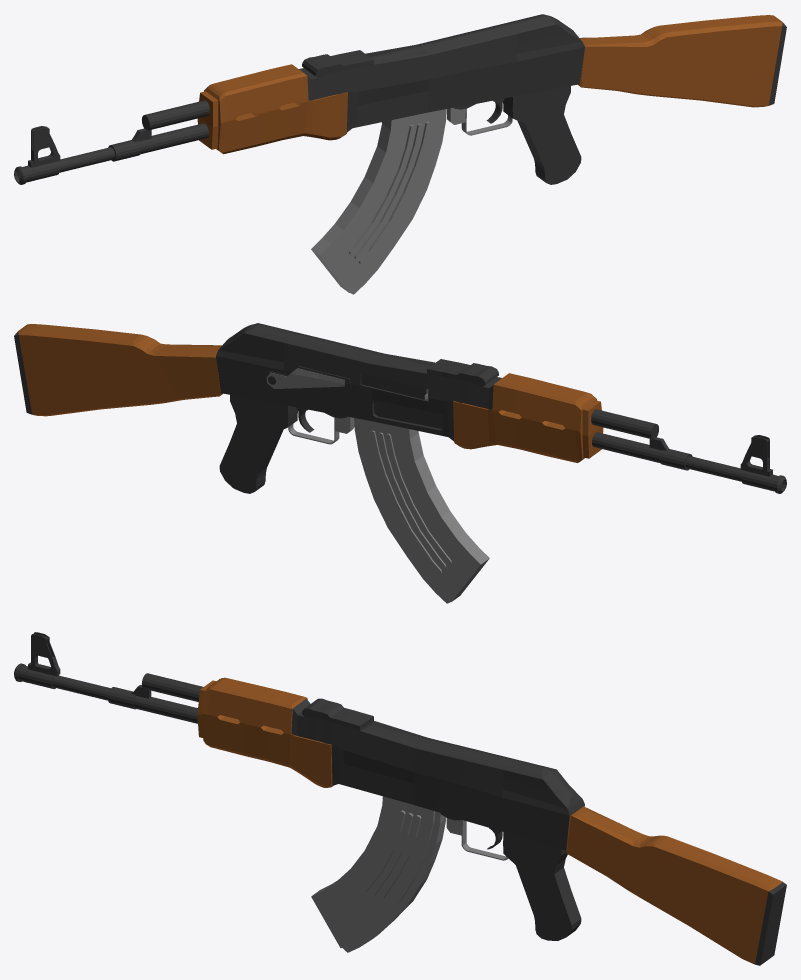
The picture shows the model from 3 angles, top to bottom: view 1: azimuth 30°, elevation 25°; view 2: azimuth 150°, elevation 25°; view 3: azimuth 330°, elevation 25°; orthographic projection.
Parts seen in each view (by area): view 1: Cube_Cube.001; view 2: Cube_Cube.001; view 3: Cube_Cube.001.
Part boxes in pixels (x1,y1,x2,y2): Cube_Cube.001: [14, 14, 786, 294]; Cube_Cube.001: [14, 323, 786, 603]; Cube_Cube.001: [14, 632, 786, 965].
Bounding box in the file's own units: 437 × 132 × 19.45.
